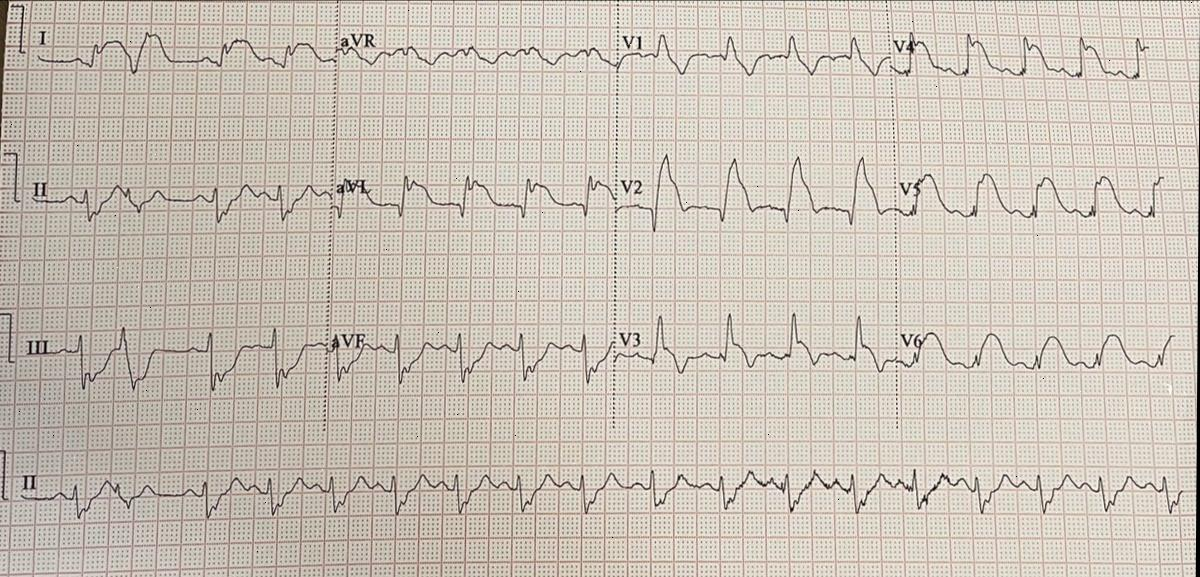Lead_I: (27, 14, 332, 100)
Lead_II: (27, 161, 333, 233)
Lead_III: (17, 310, 325, 405)
Lead_II_ext: (16, 448, 1188, 540)
Lead_V1: (616, 11, 888, 114)
Lead_V2: (614, 138, 895, 248)
Lead_V3: (611, 298, 895, 388)
Lead_V4: (885, 9, 1158, 116)
Lead_V5: (891, 145, 1173, 240)
Lead_V6: (895, 300, 1183, 389)
Lead_aVF: (326, 311, 616, 398)
Lead_aVL: (329, 150, 616, 247)
Lead_aVR: (334, 13, 618, 102)
